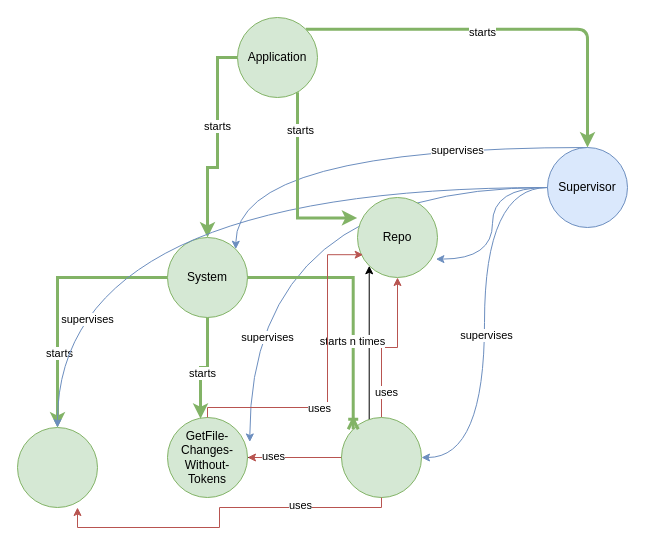
Some shapes in this 645 by 553 pixel diagram are drawn without their labels. The shapes that lost their labels are listed below. From the top down, each one's centre as x and y in pixels, then its label:
[57,467]: Process- Registry
[381,457]: MakeTokens
